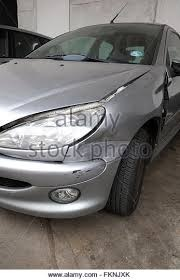Dent: (79, 126, 125, 164)
Scratch: (70, 167, 96, 182)
